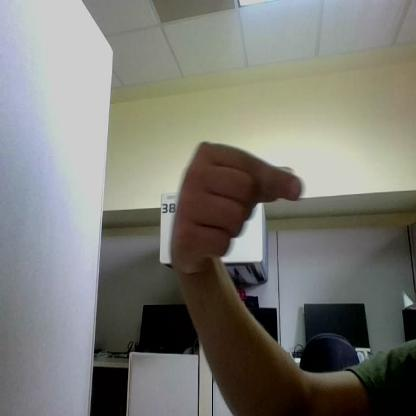G: (173, 143, 303, 274)
